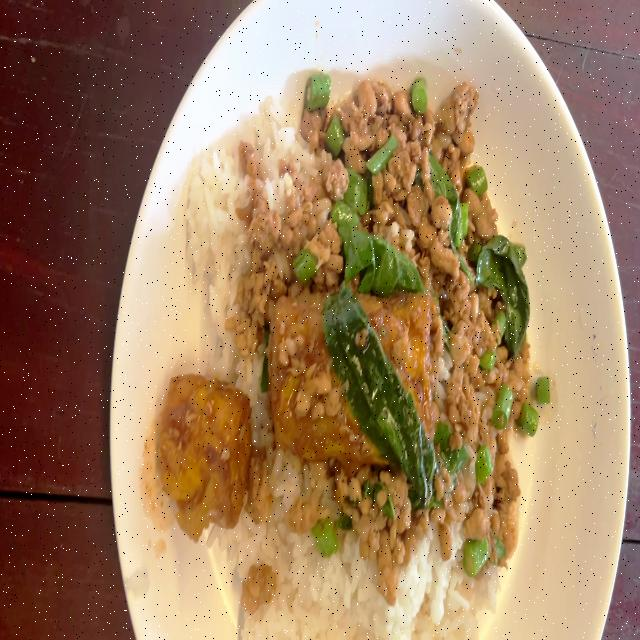fried_tofo: (274, 299, 433, 453), (165, 382, 235, 519)
minced_pork: (251, 84, 507, 286), (425, 284, 536, 571), (288, 470, 437, 566)
rice: (237, 567, 502, 640)
stir_fried_basil: (160, 70, 548, 640)
